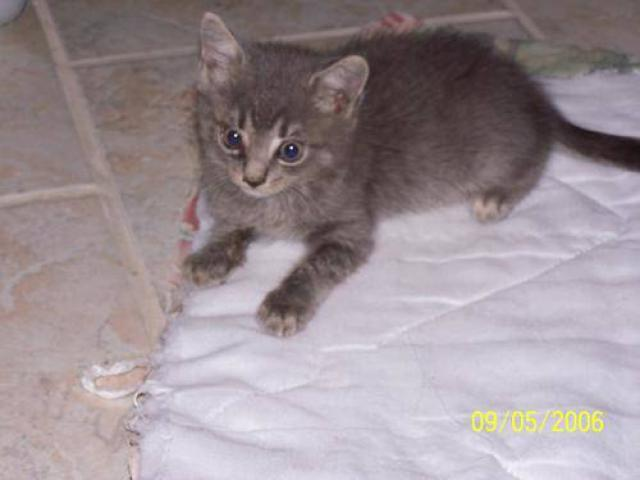cat: (146, 8, 635, 341)
